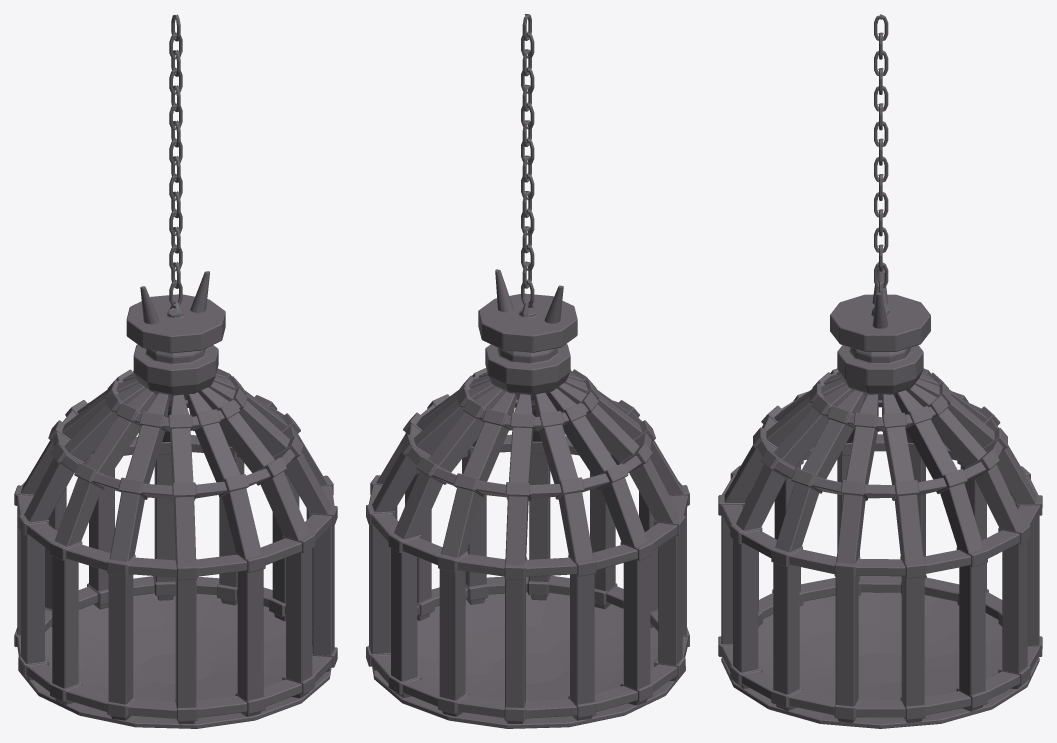
The model's file is Cage1.fbx.
3 renders of one model, left to right at view 1: azimuth 30°, elevation 25°; view 2: azimuth 150°, elevation 25°; view 3: azimuth 270°, elevation 25°, orthographic.
Parts seen in each view (by area): view 1: Cage1; view 2: Cage1; view 3: Cage1.
Boxes of the visible parts, box(x1,y1,x2,y2) form: Cage1: box(14, 14, 337, 728); Cage1: box(366, 14, 689, 728); Cage1: box(718, 14, 1042, 728).
Size of the model in its own units: 201 by 454 by 204.
